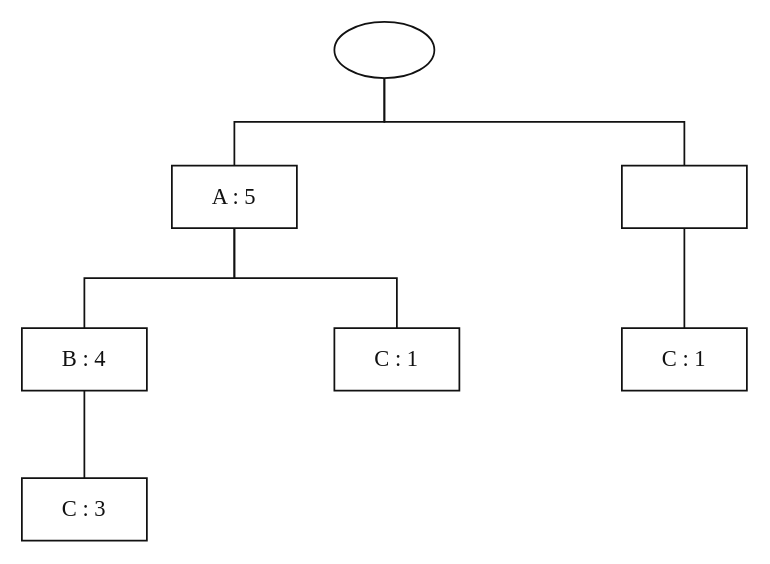
Image size: 770x564. Some labels were removed from this diagram. Here are the shapes that lost their labels. From the top down, the centre of each, then its label:
the point at 384,49: root
the point at 683,196: B : 1
